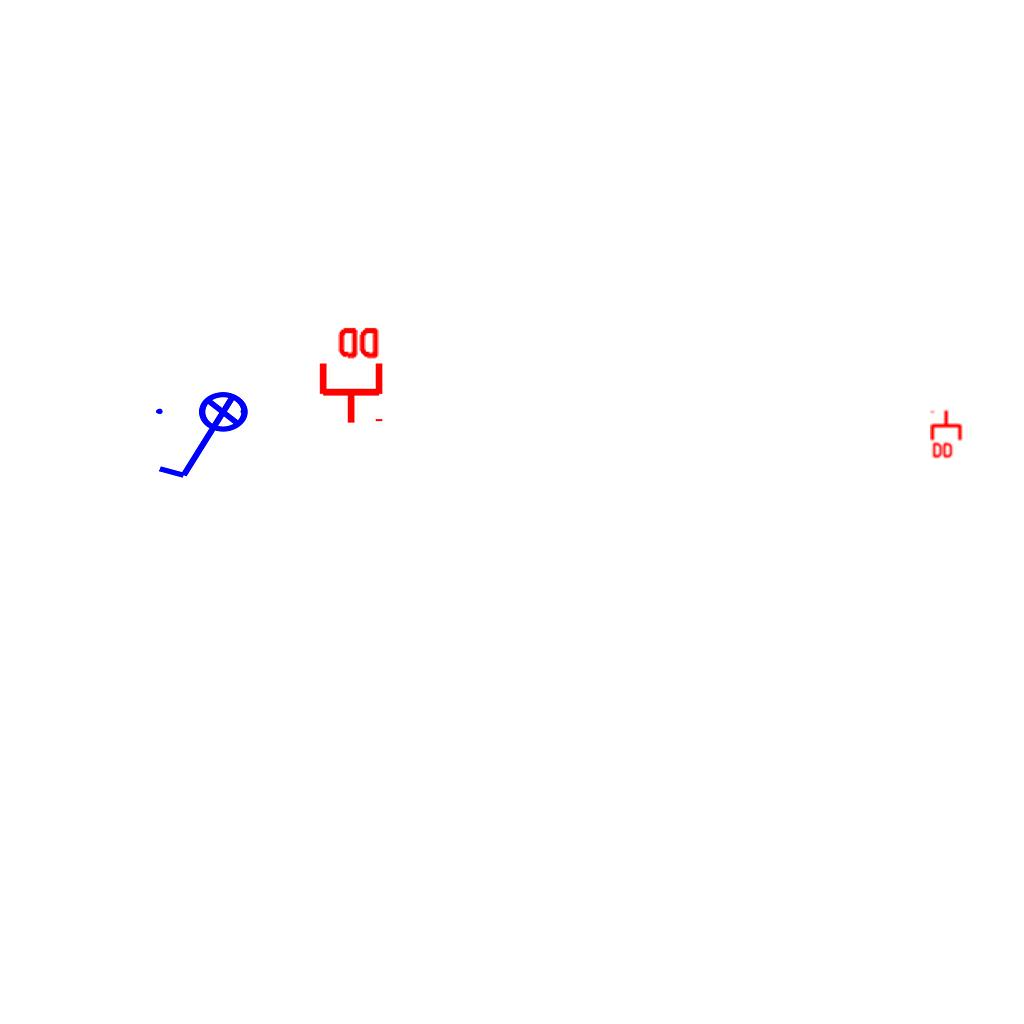Ausschalter_beleuchtet: (150, 390, 262, 486)
Datenanschluss_zweifach: (315, 323, 384, 426), (930, 409, 964, 460)
